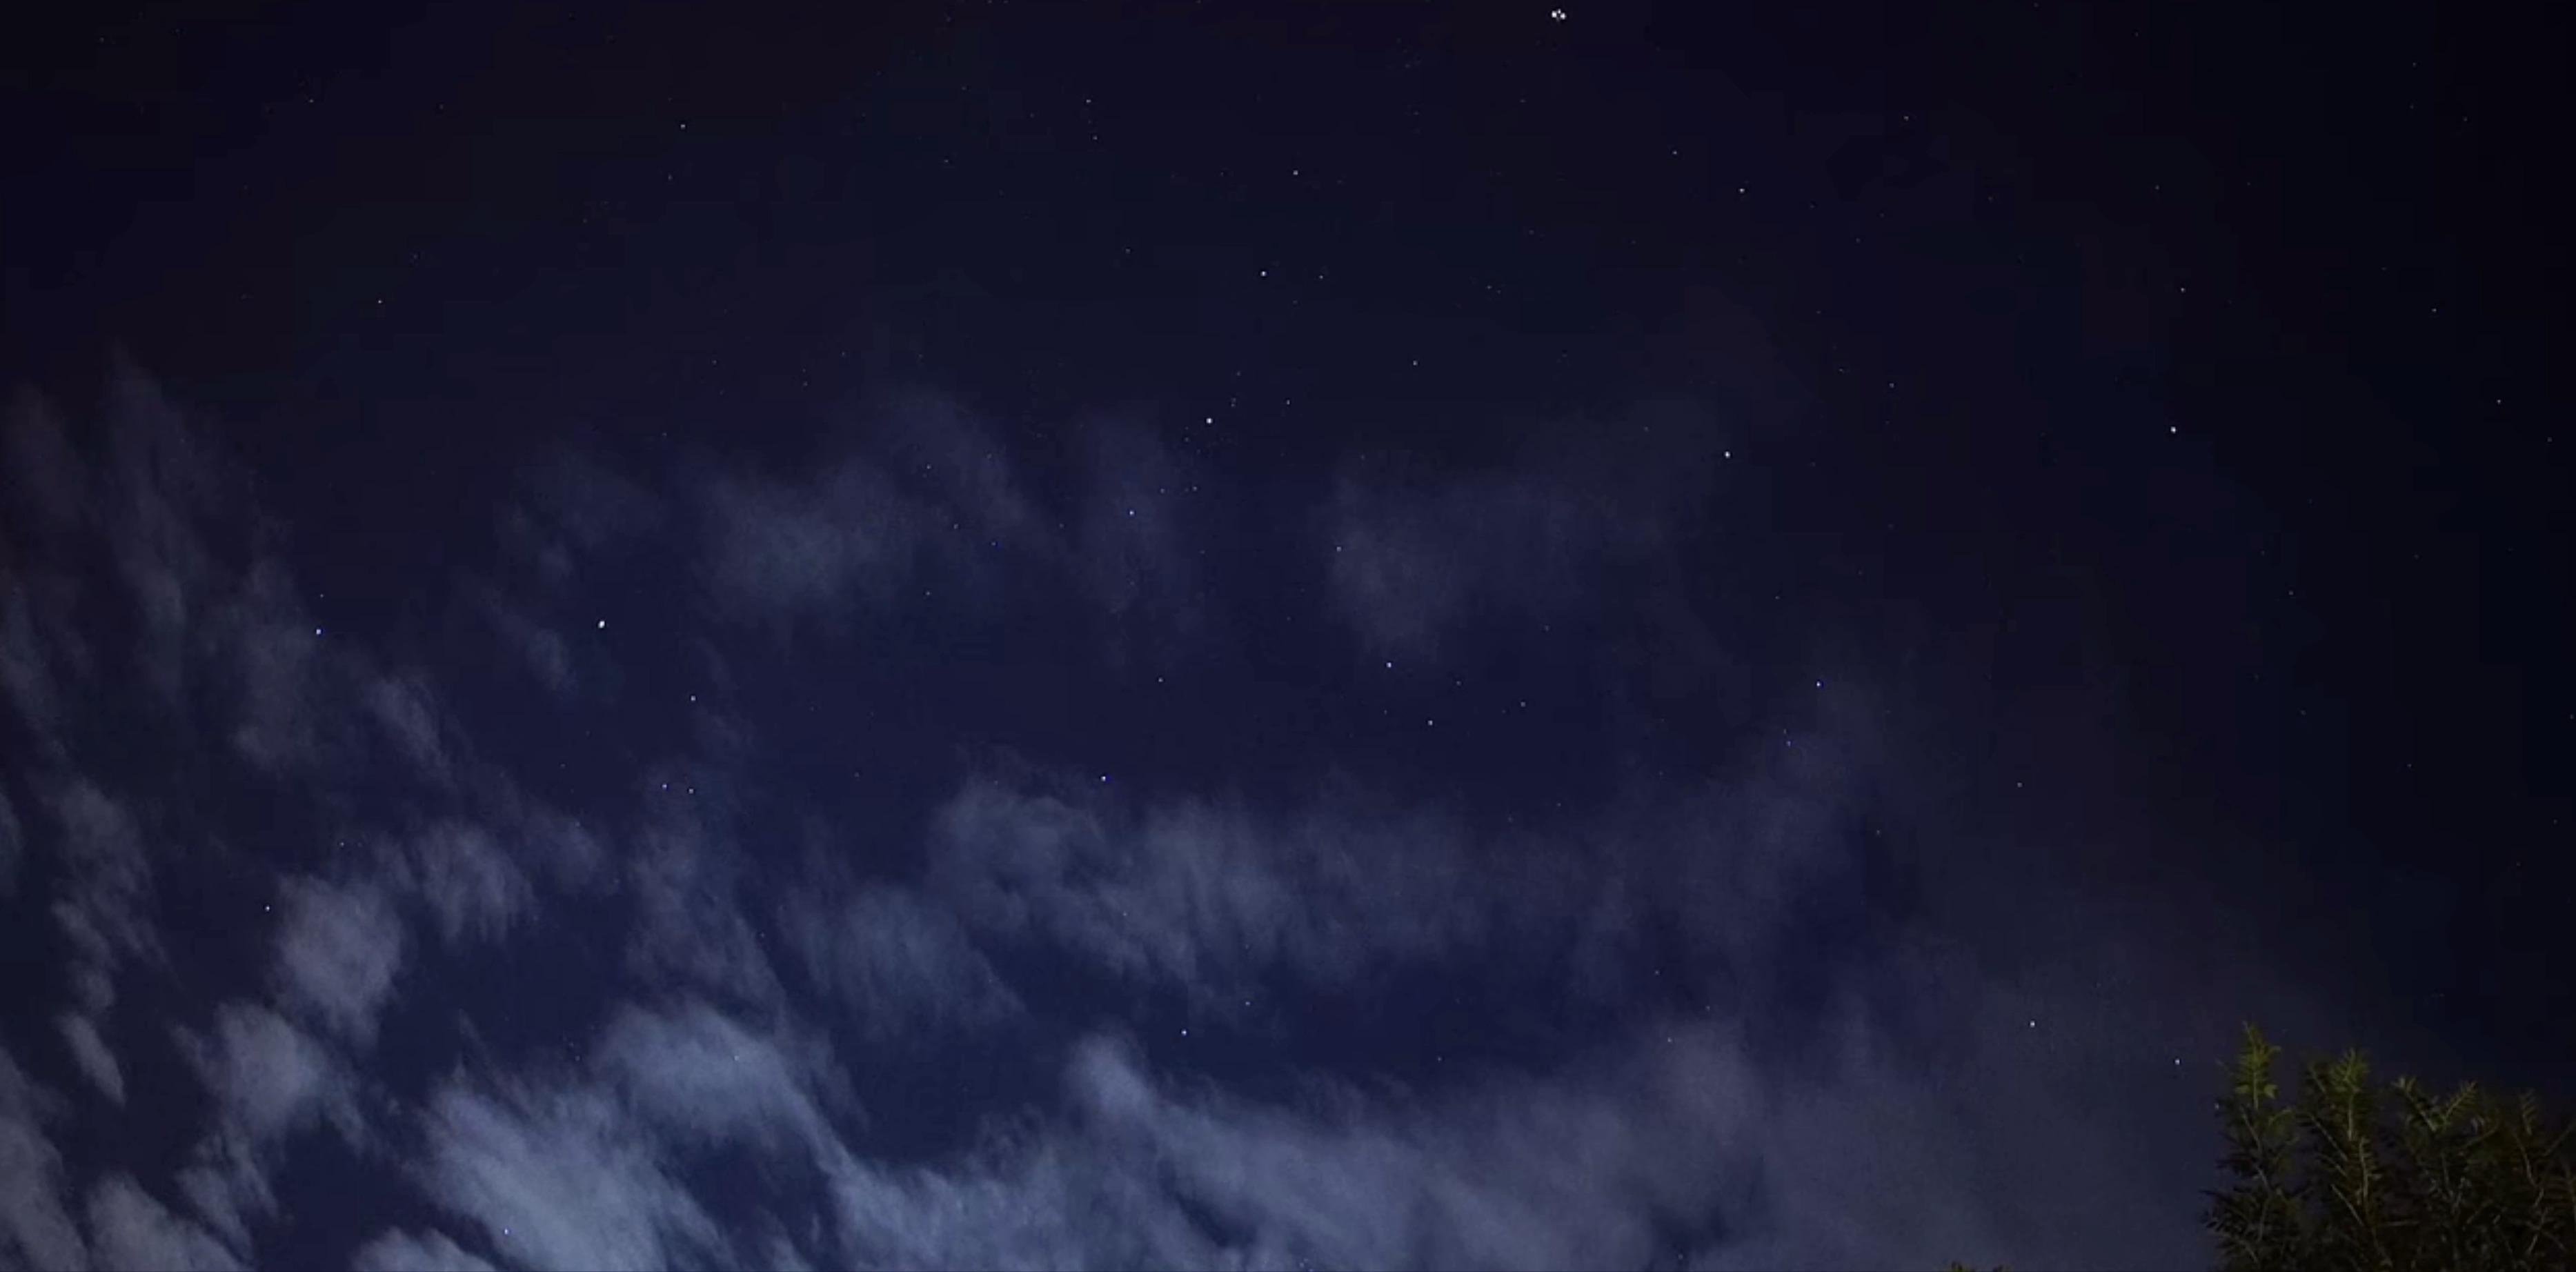Plane: (1521, 0, 1594, 31)
